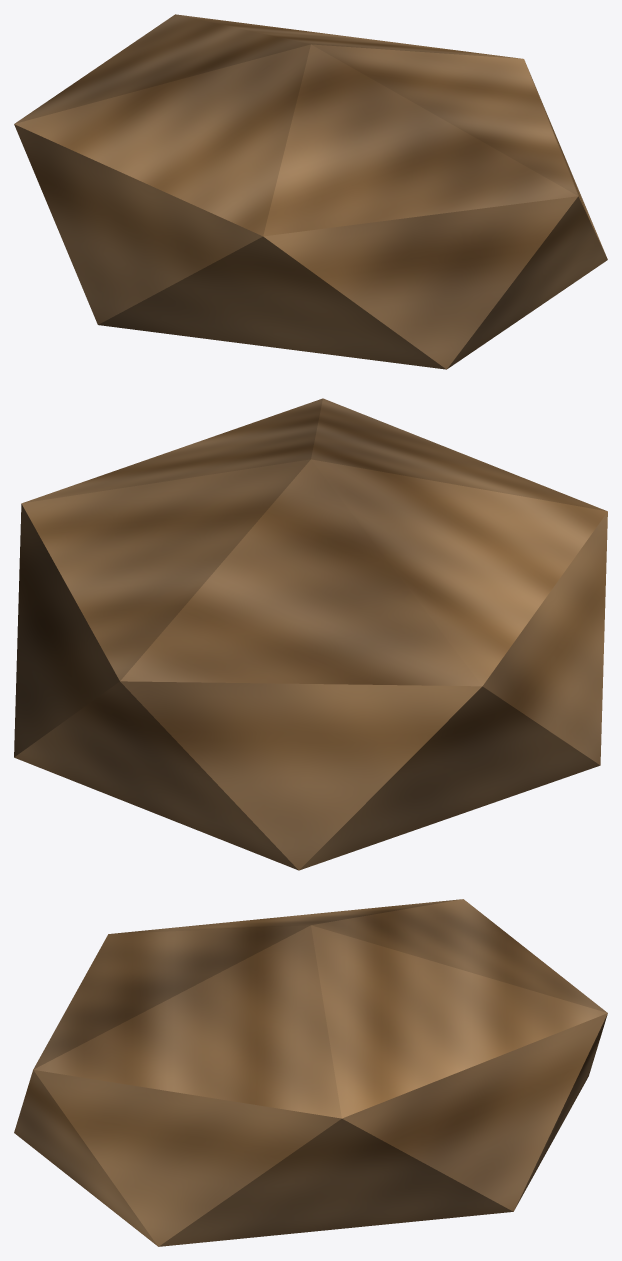
File: 2021_sandstone_talus_16.dae
3 renders of one model, top to bottom at view 1: azimuth 30°, elevation 25°; view 2: azimuth 150°, elevation 25°; view 3: azimuth 270°, elevation 25°, orthographic. The views are drawn at different scales.
Parts seen in each view (by area): view 1: Node; view 2: Node; view 3: Node.
Boxes of the visible parts, box(x1,y1,x2,y2) form: Node: box(14, 14, 607, 369); Node: box(14, 398, 607, 870); Node: box(14, 899, 607, 1246).
Size of the model in its own units: 0.7459 by 0.8385 by 0.4602.
Materials: 1 (1 with a texture image).
